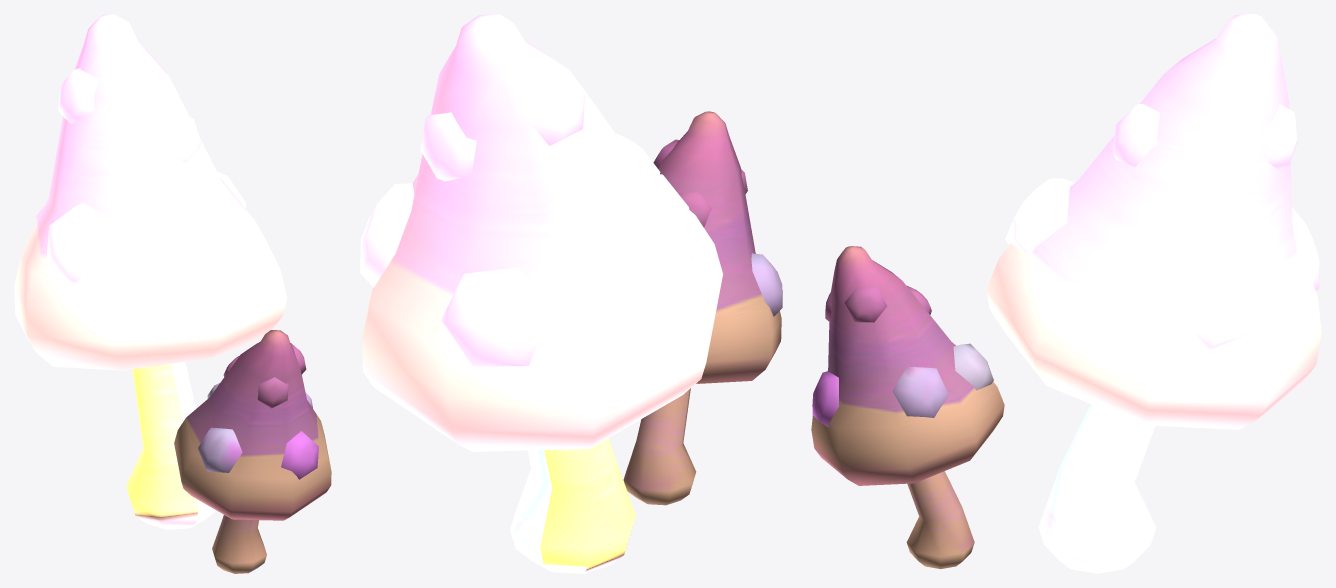
Rendered from setaXS11.fbx.
3 views of the same model, side by side, from view 1: azimuth 30°, elevation 25°; view 2: azimuth 150°, elevation 25°; view 3: azimuth 270°, elevation 25° (orthographic). The views are drawn at different scales.
Parts seen in each view (by area): view 1: SetaXS11, Cylinder.035; view 2: SetaXS11, Cylinder.035; view 3: SetaXS11, Cylinder.035.
Part boxes in pixels (box(x1,y1,x2,y2)): SetaXS11: box(14, 14, 287, 529); Cylinder.035: box(174, 330, 331, 573); SetaXS11: box(360, 14, 722, 573); Cylinder.035: box(623, 111, 782, 505); SetaXS11: box(986, 14, 1321, 573); Cylinder.035: box(811, 246, 1004, 569).
Size of the model in its own units: 332 by 589 by 499.
